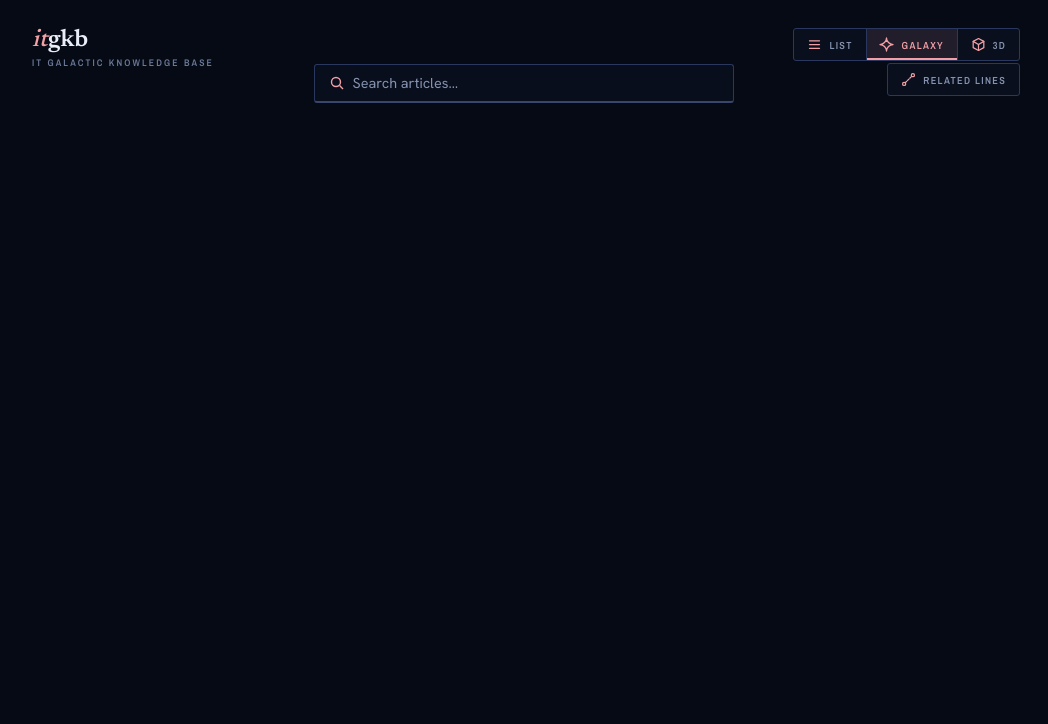
it: semantic layout wiring (#29) › falls back to authored grouping when the artifact is unusable (5a)
This screenshot has width=1048, height=724.
Click the button "List" at [830, 44], box [794,29,866,60]
(page scrolled)
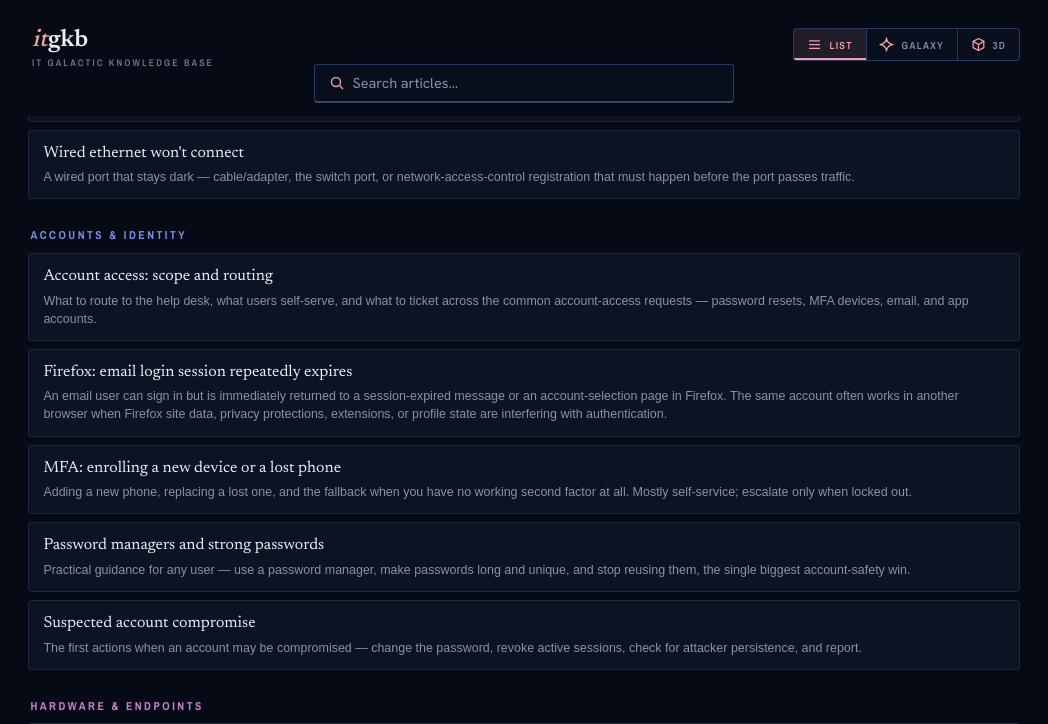
Expected: the heading "Security" does not show "Account access: scope and routing"
Result: the element "Accounts & Identity" shows "Account access: scope and routing" at [28,253,1020,341]
